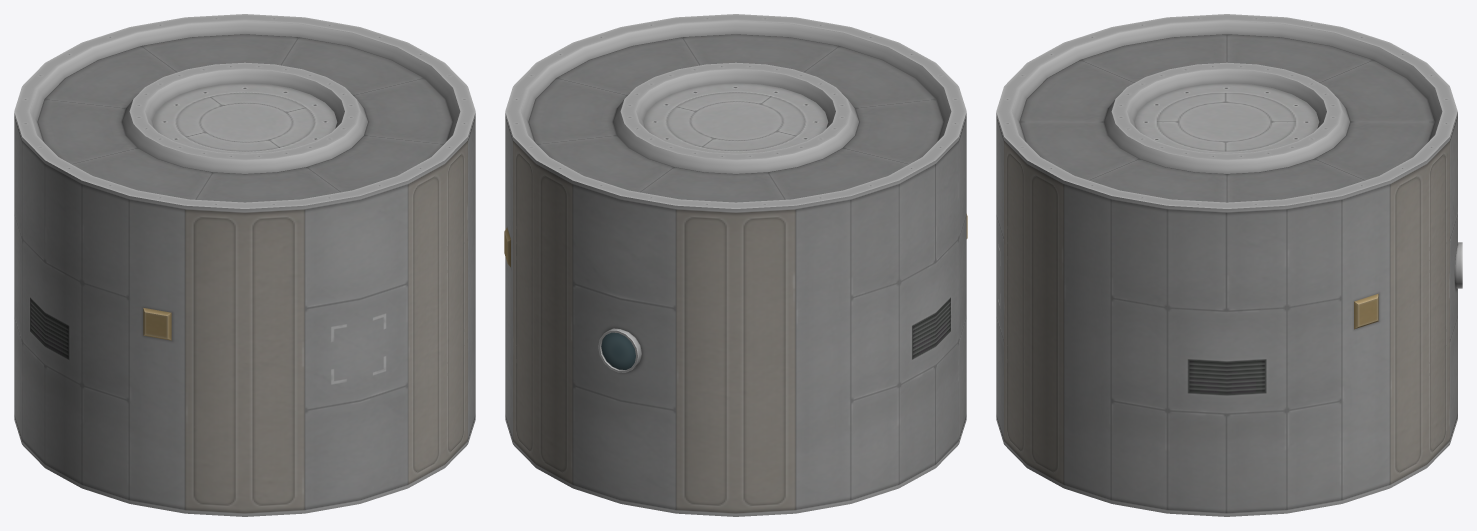
Rendered from Alniyat_Crew_3_1.obj.
3 views of the same model, side by side, from view 1: azimuth 30°, elevation 25°; view 2: azimuth 150°, elevation 25°; view 3: azimuth 270°, elevation 25° (orthographic).
Visible parts, largest first — view 1: Alniyat_Crew_3_1; view 2: Alniyat_Crew_3_1, Alniyat_Crew_3_1_Window; view 3: Alniyat_Crew_3_1.
Boxes of the visible parts, x1,y1,x2,y2 form: Alniyat_Crew_3_1: (14,14,475,516); Alniyat_Crew_3_1: (504,14,967,516); Alniyat_Crew_3_1_Window: (601,332,635,369); Alniyat_Crew_3_1: (996,14,1462,516).
Bounding box in the file's own units: 1.88 × 1.38 × 1.89.
